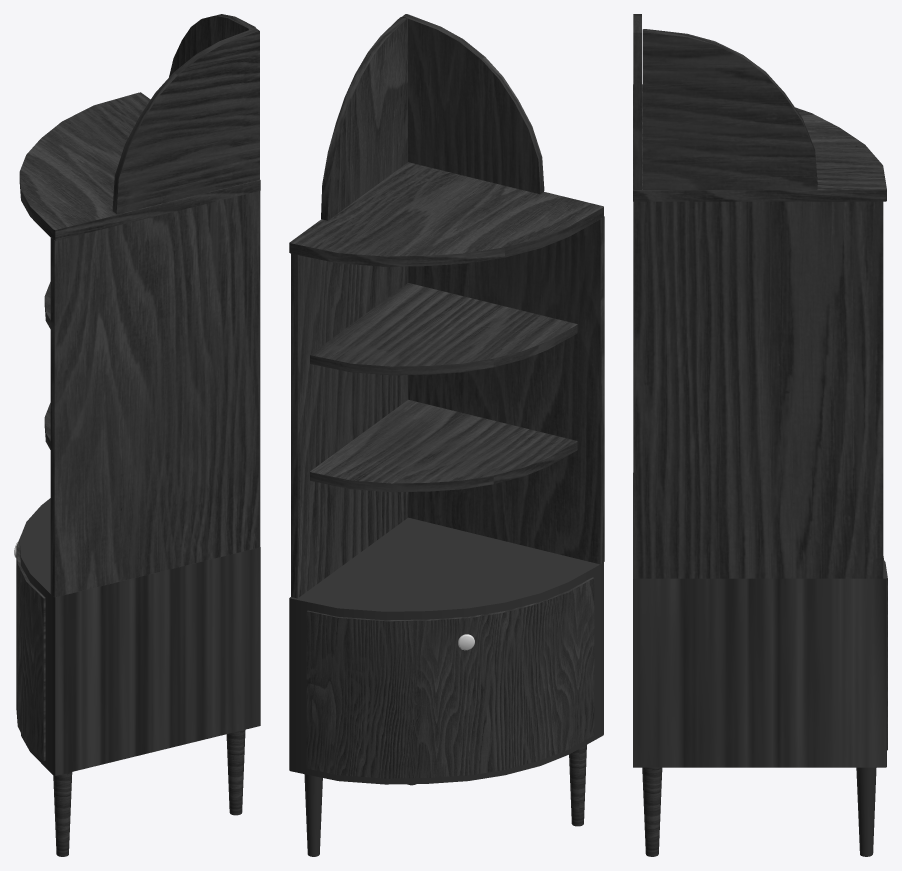
The model's file is AngolieraT.fbx.
The picture shows the model from 3 angles, left to right: view 1: azimuth 30°, elevation 25°; view 2: azimuth 150°, elevation 25°; view 3: azimuth 270°, elevation 25°; orthographic projection. The views are drawn at different scales.
Parts seen in each view (by area): view 1: Angoliera; view 2: Angoliera; view 3: Angoliera.
Boxes of the visible parts, bbox=[...] form: Angoliera: bbox=[14, 14, 260, 856]; Angoliera: bbox=[289, 14, 604, 856]; Angoliera: bbox=[633, 14, 887, 856].
Bounding box in the file's own units: 60.5 × 220 × 61.22.
6 materials, 4 textured.
